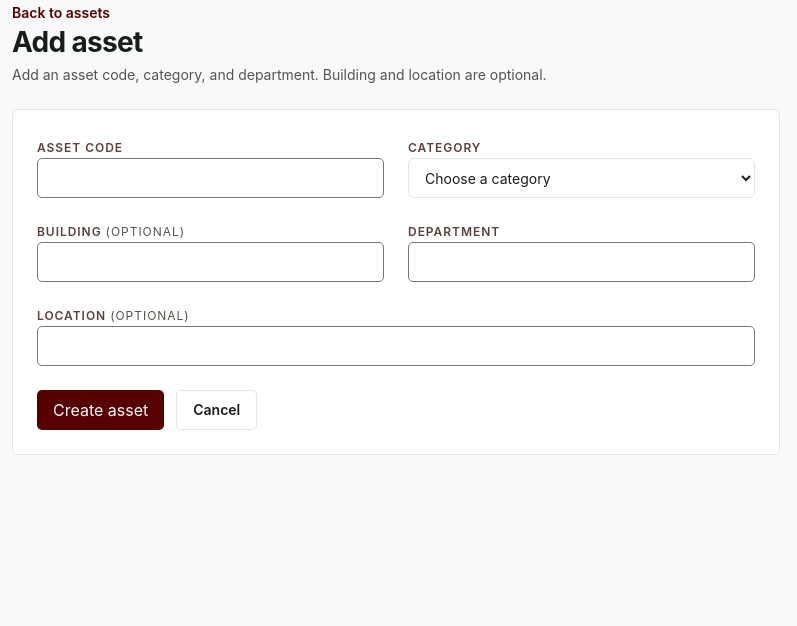
Test: AssetCreate feature component › maps client validation errors to untouched fields on submit and focuses first invalid field
This screenshot has width=797, height=626.
Check: the field labelled "Asset code" is shown, box [37, 158, 384, 198]
Click the button "Create asset".
click(101, 410)  # box [37, 390, 164, 430]
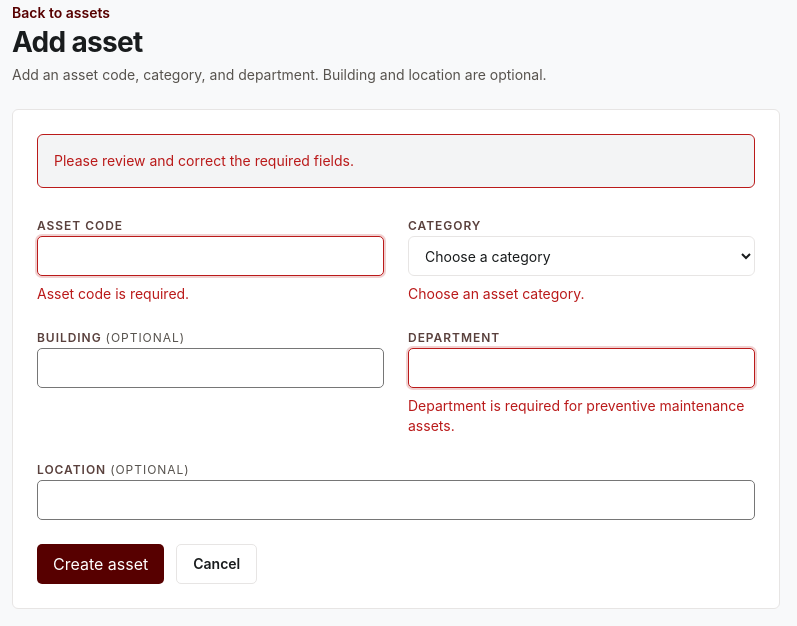
Check: the text "Please review and correct the required fields." is shown, box [37, 134, 755, 188]
Check: the text "Asset code is required." is shown, box [37, 285, 189, 302]
Check: the text "Choose an asset category." is shown, box [408, 285, 584, 302]
